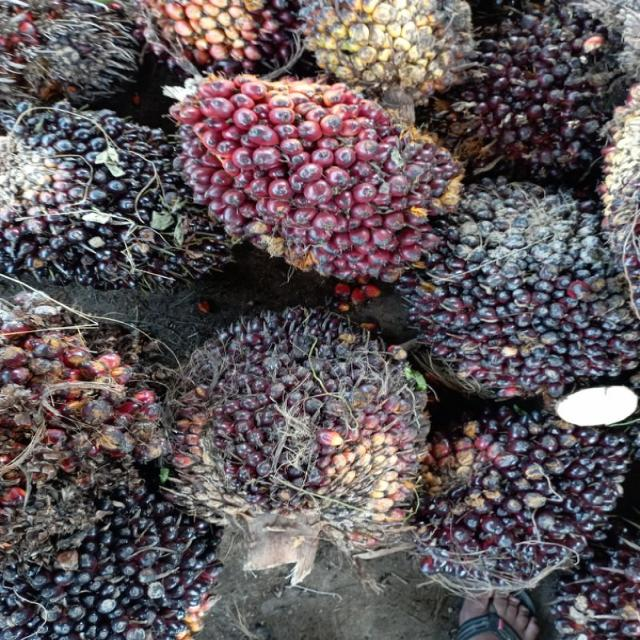fraksi 00: (407, 192, 619, 396), (0, 102, 236, 282), (0, 457, 213, 640), (431, 391, 623, 586)
fraksi 1: (168, 68, 468, 281), (180, 308, 430, 532)
fraksi 4: (0, 286, 172, 538)
